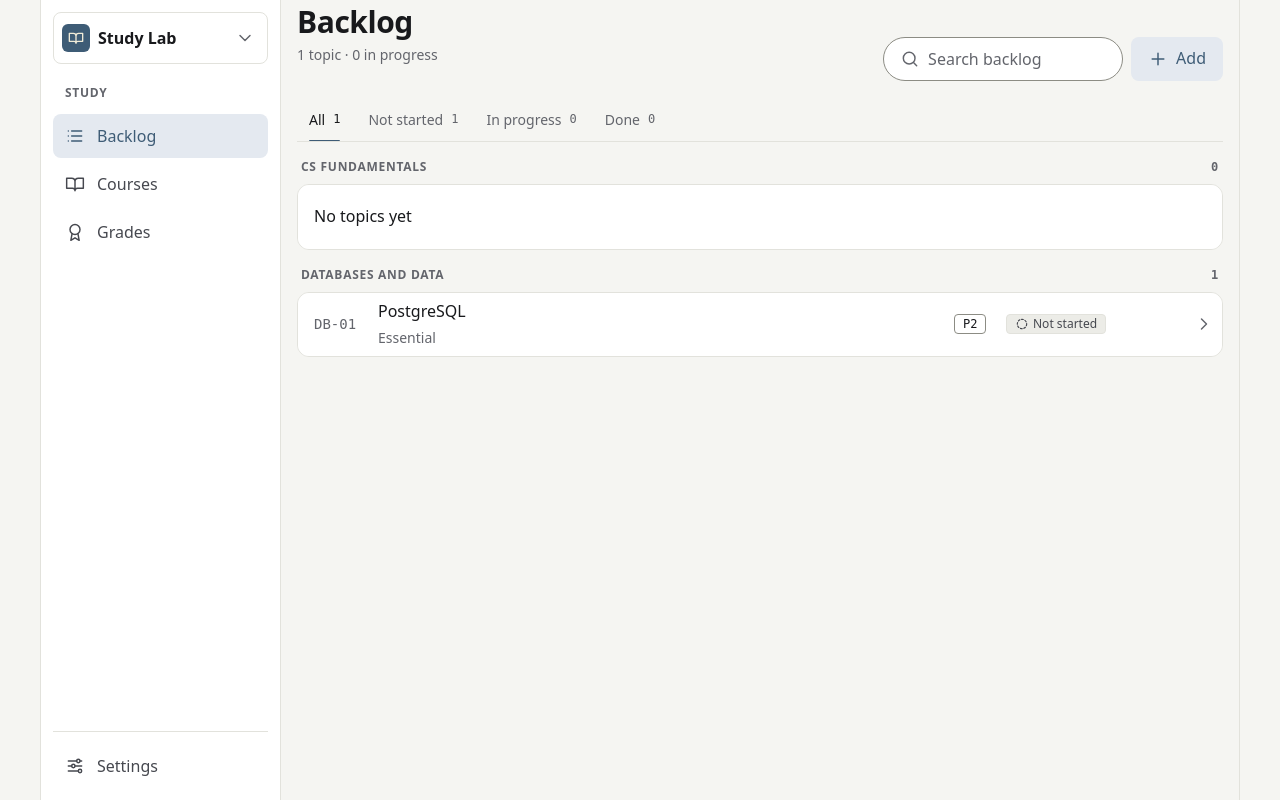
Test case: Add a topic › looks the skill up as you type: in the backlog, a match, or new
Click the button "Add": point(1177, 59) [1131,37,1223,81]
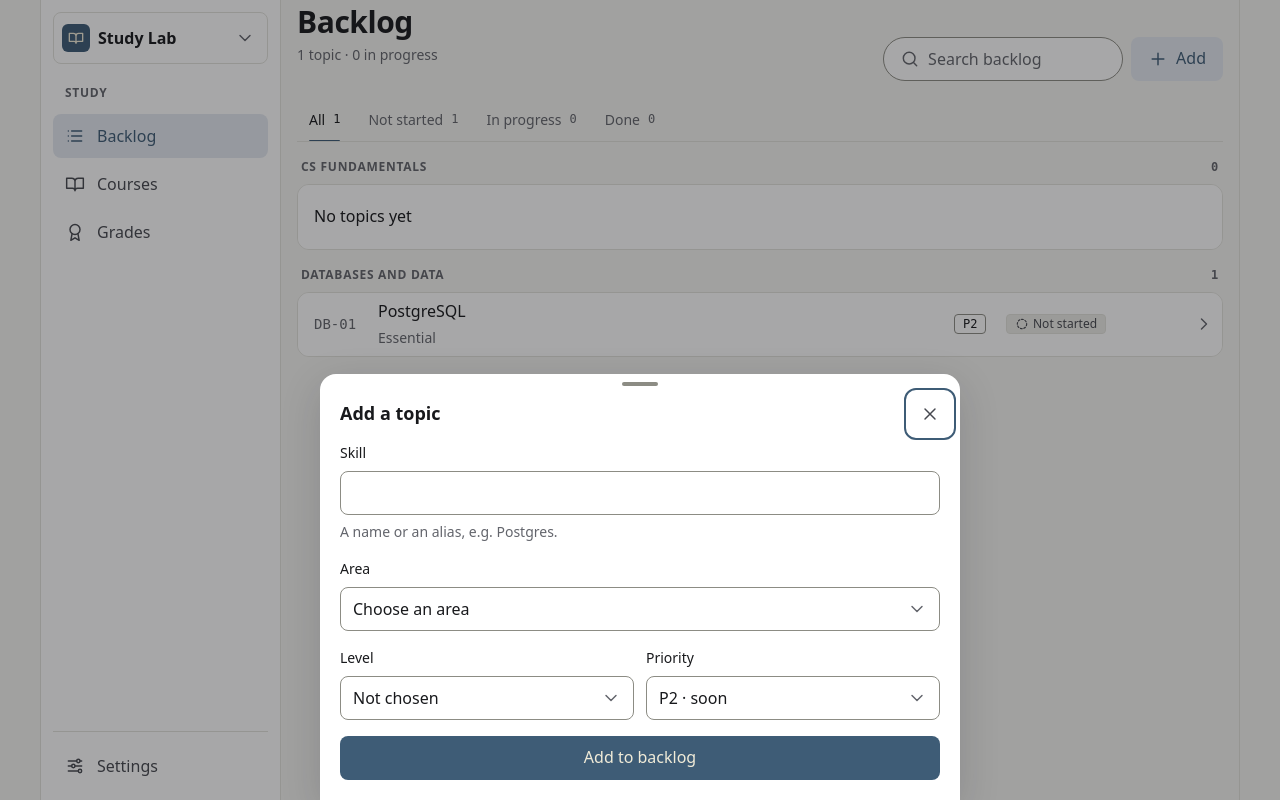
In the field labelled "Skill": point(644, 493) [353,472,935,514], type "postgres"
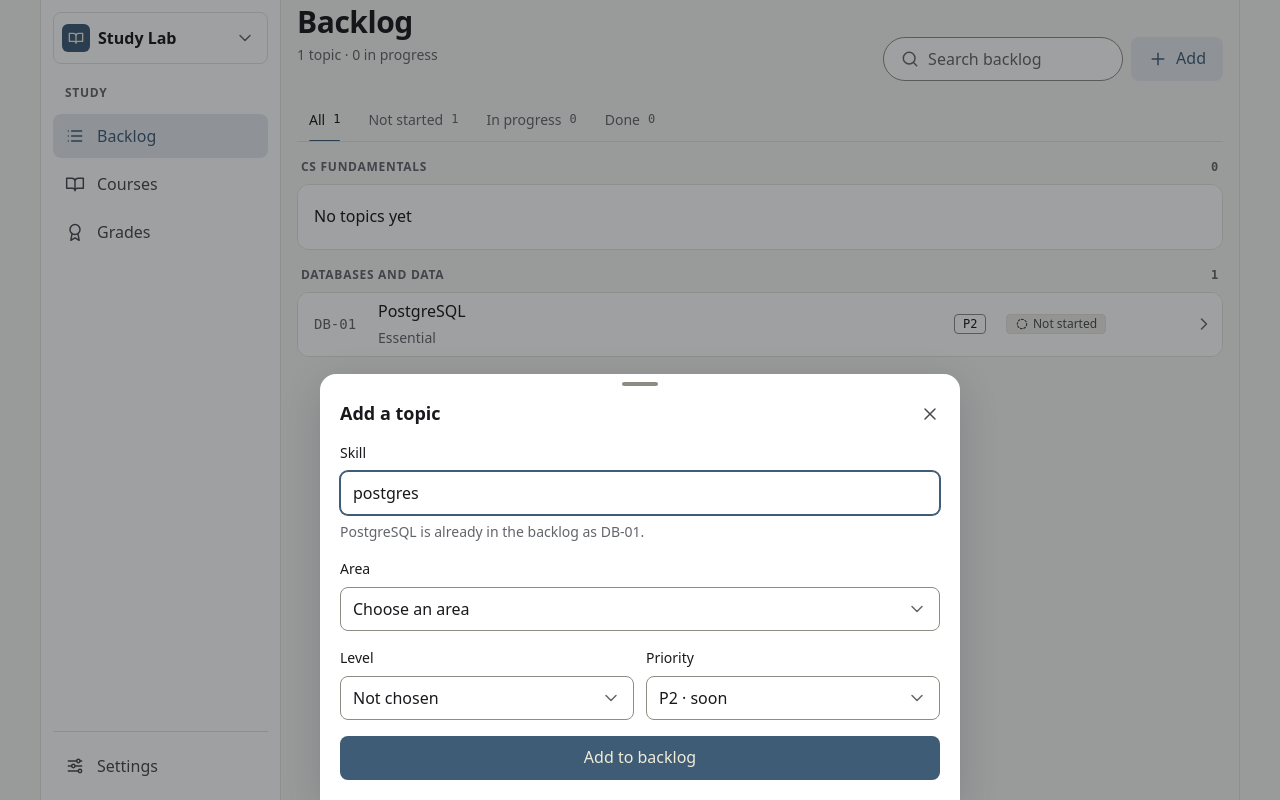
Check: the text "PostgreSQL is already in the backlog as DB-01." is shown, box [340,522,644,541]
Replace the text in the field labelled "Skill" with "docker": point(644, 493) [353,472,935,514]
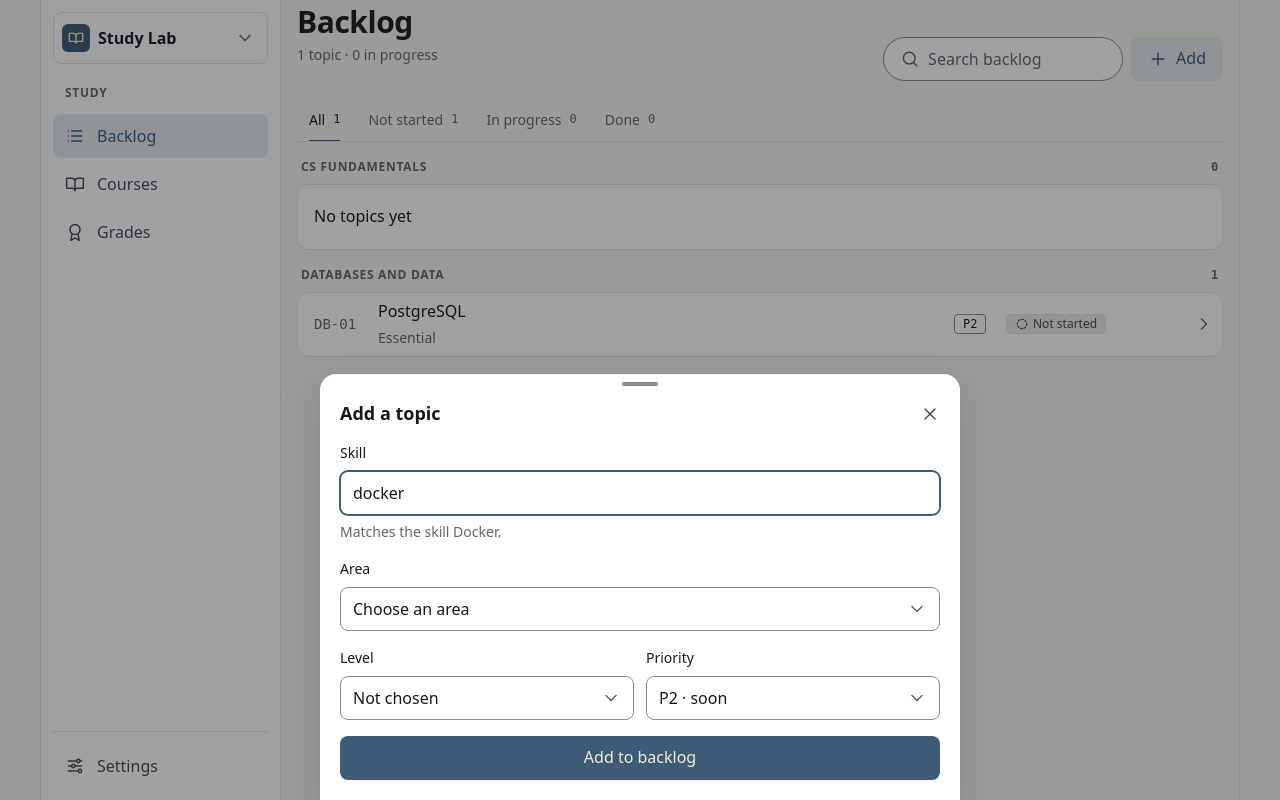
Check: the text "Matches the skill Docker." is shown, box [340,522,501,541]
Replace the text in the field labelled "Skill" with "Zig": point(644, 493) [353,472,935,514]
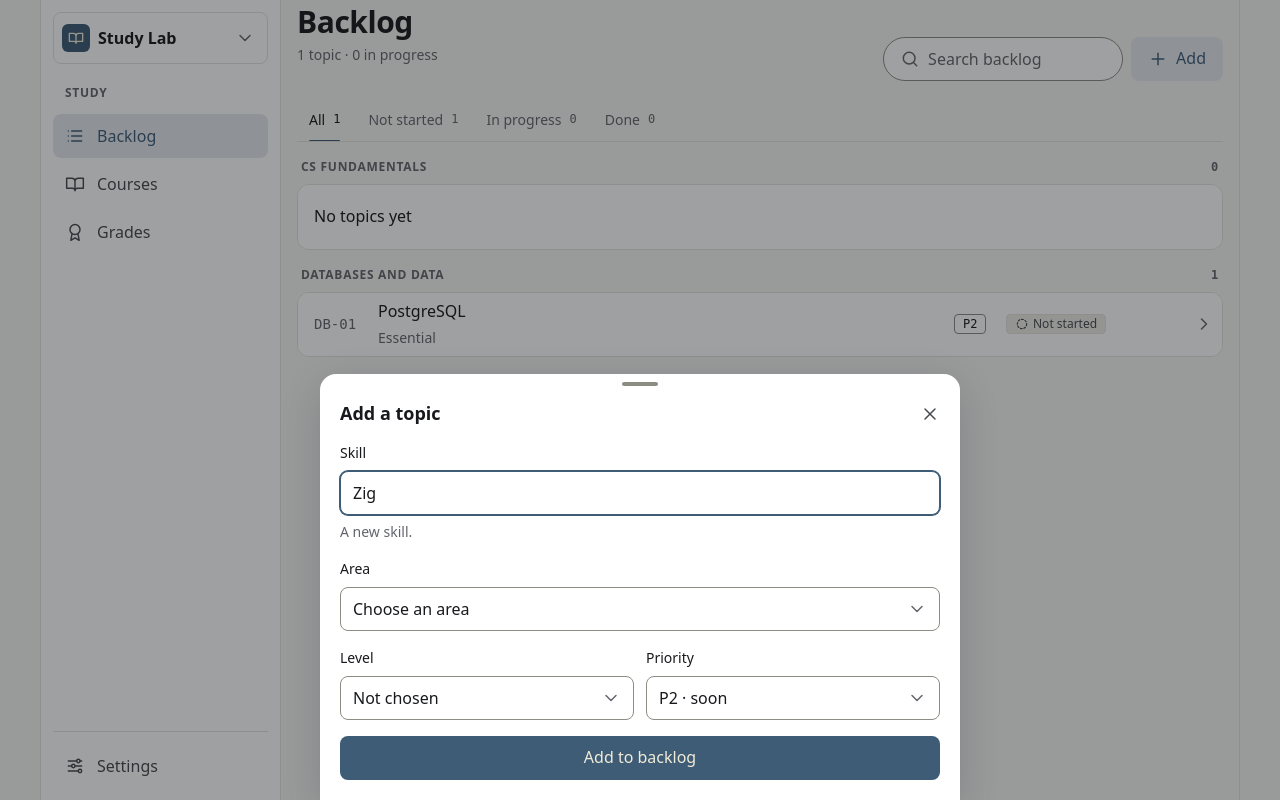
Check: the text "A new skill." is shown, box [340,522,412,541]
